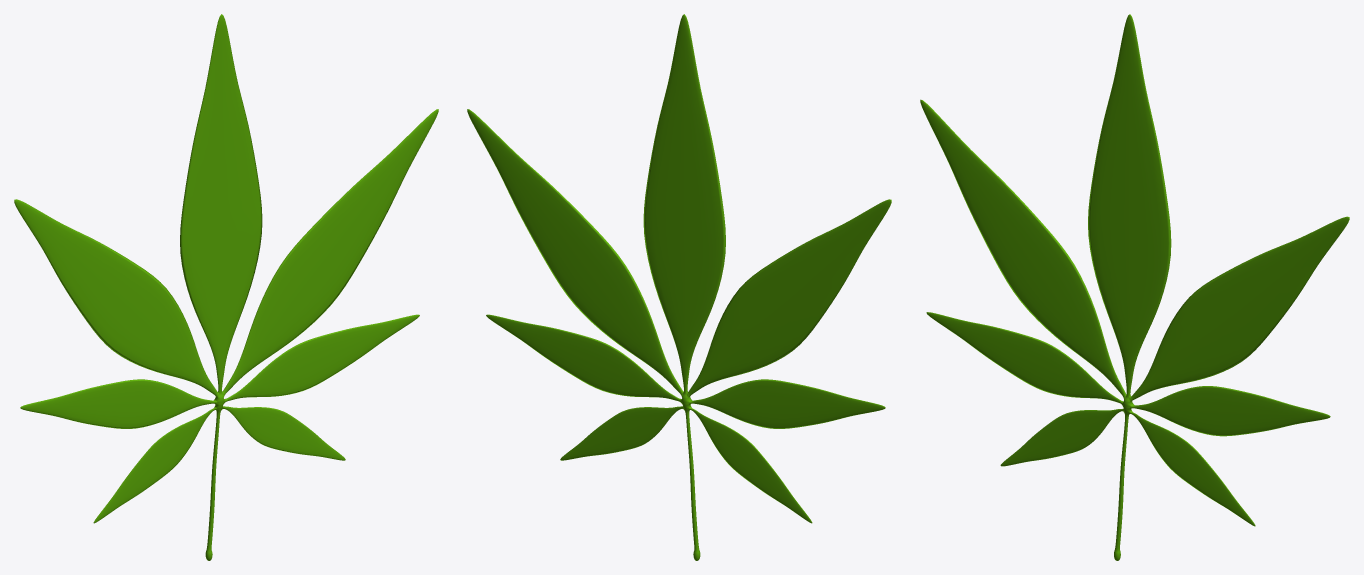
Rendered from leaf_2.glb.
3 renders of one model, left to right at view 1: azimuth 30°, elevation 25°; view 2: azimuth 150°, elevation 25°; view 3: azimuth 330°, elevation 25°, orthographic.
Visible parts, largest first — view 1: Cube.001; view 2: Cube.001; view 3: Cube.001.
Boxes of the visible parts, x1,y1,x2,y2 form: Cube.001: (14, 14, 438, 560); Cube.001: (467, 14, 891, 560); Cube.001: (920, 14, 1349, 560).
Bounding box in the file's own units: 818 × 1000 × 13.88.
